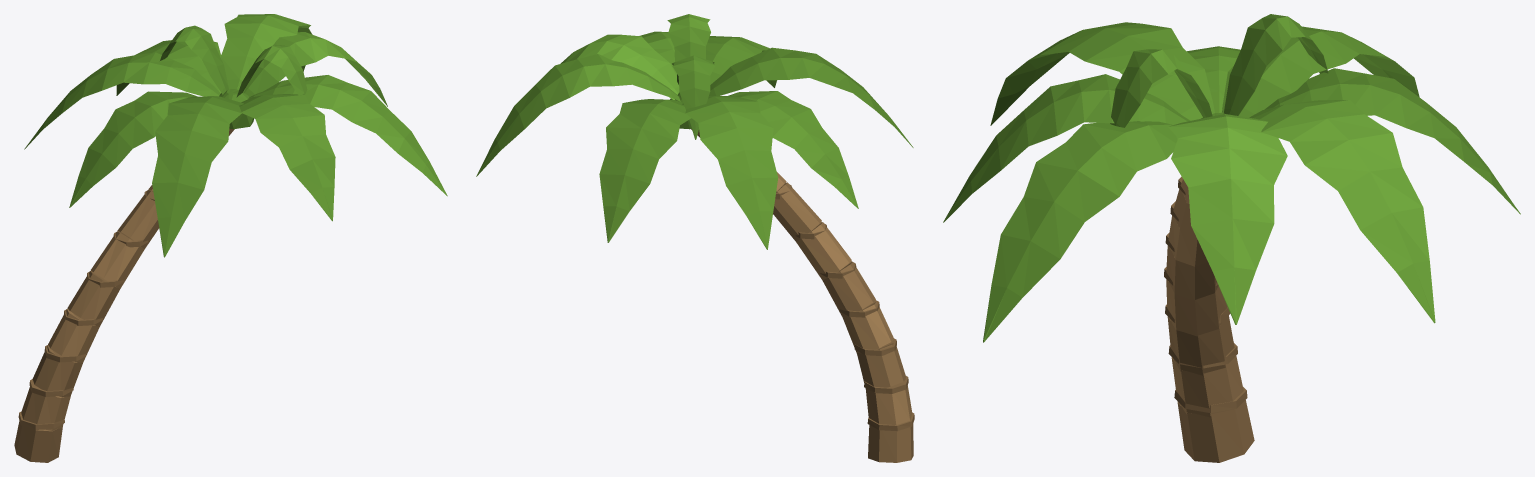
Rendered from 07_leaning_palm.glb.
3 renders of one model, left to right at view 1: azimuth 30°, elevation 25°; view 2: azimuth 150°, elevation 25°; view 3: azimuth 270°, elevation 25°, orthographic. The views are drawn at different scales.
Visible parts, largest first — view 1: 07_leaning_palm; view 2: 07_leaning_palm; view 3: 07_leaning_palm.
Part boxes in pixels (<box>): 07_leaning_palm: <box>14,14,447,462</box>; 07_leaning_palm: <box>476,14,914,462</box>; 07_leaning_palm: <box>943,14,1520,462</box>.
Size of the model in its own units: 3.17 by 2.97 by 2.76.
